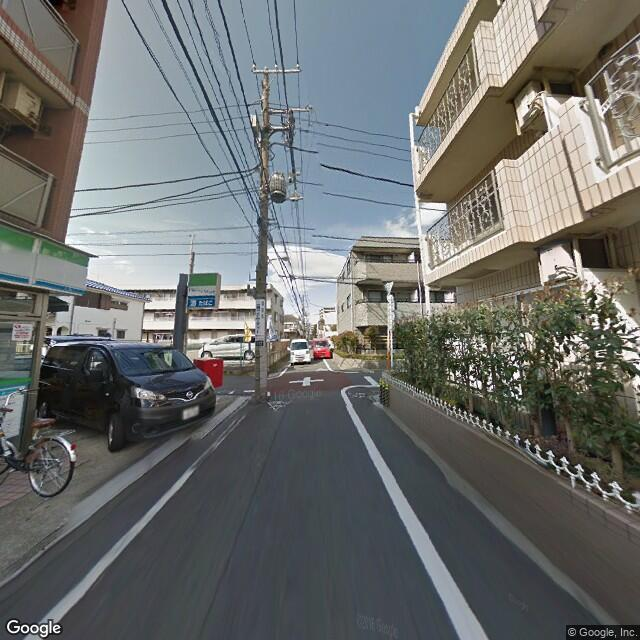family_mart: (1, 223, 91, 302), (187, 269, 221, 308)
